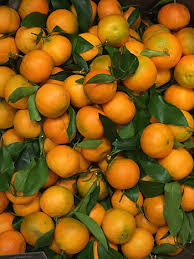orange: (107, 158, 144, 194), (35, 86, 71, 120), (84, 71, 117, 106), (45, 145, 78, 176)
